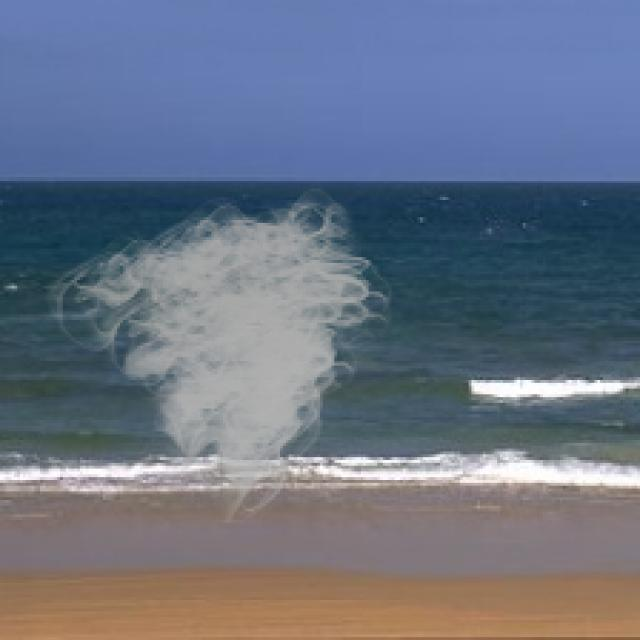Smoke: (43, 180, 403, 523)
